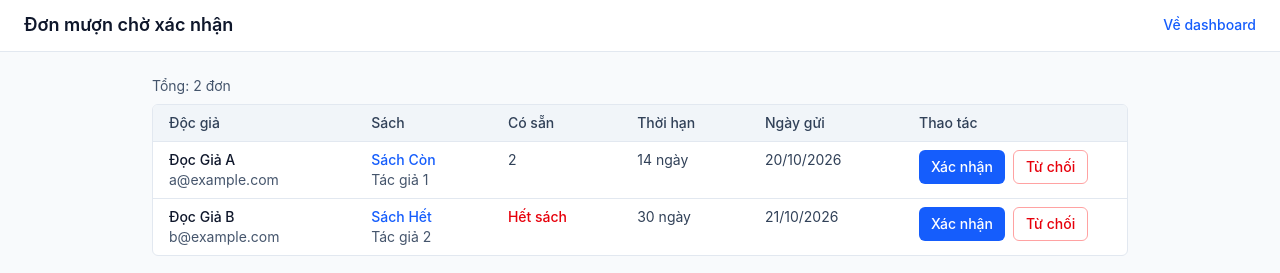
Test case: BorrowRequestsPage (2.3.2) › Xác nhận → thông báo kèm hạn trả và tải lại danh sách
Expected: the row named "Đơn Sách Còn của Đọc Giả A" is shown, [153,142,1127,198]
Click the button with aria-label "Xác nhận đơn Sách Còn của Đọc Giả A": (962, 167) [919,150,1005,184]
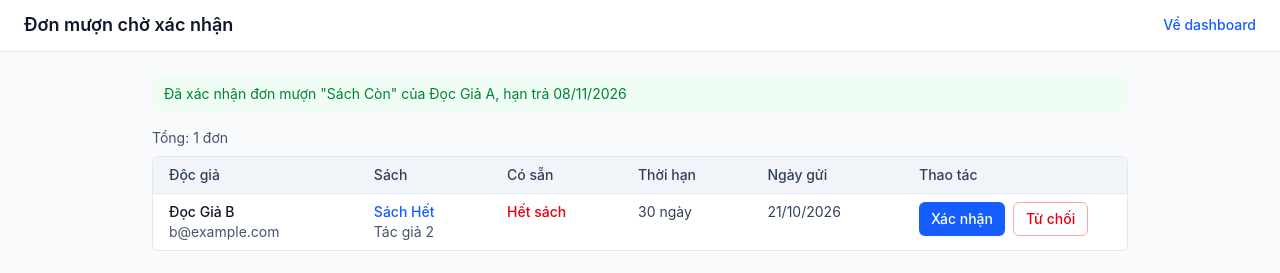
Expected: the message reads "Đã xác nhận đơn mượn \"Sách Còn\" của Đọc Giả A, hạn trả 08/11/2026", [164,85,627,102]
